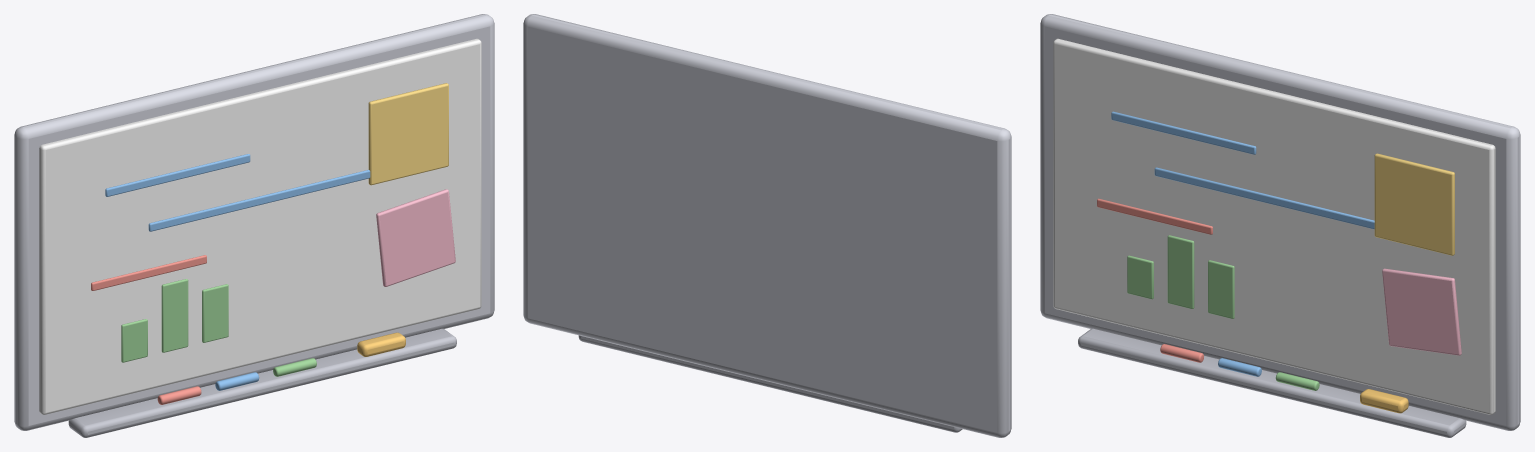
Rendered from whiteboard.glb.
3 renders of one model, left to right at view 1: azimuth 30°, elevation 25°; view 2: azimuth 150°, elevation 25°; view 3: azimuth 330°, elevation 25°, orthographic.
Parts seen in each view (by area): view 1: board, frame, tray, note_yellow, note_pink, c9fd49a, c8fc1f0, cf49a91, eraser; view 2: frame, tray; view 3: board, frame, tray, note_yellow, note_pink, c9fd49a, c8fc1f0, cf49a91, eraser.
Part boxes in pixels (bbox=[...]): board: bbox=[39, 38, 481, 414]; frame: bbox=[14, 14, 494, 430]; tray: bbox=[68, 328, 456, 437]; note_yellow: bbox=[368, 83, 448, 185]; note_pink: bbox=[376, 189, 455, 286]; c9fd49a: bbox=[121, 279, 316, 376]; c8fc1f0: bbox=[105, 154, 370, 390]; cf49a91: bbox=[91, 255, 206, 404]; eraser: bbox=[357, 332, 405, 356]; frame: bbox=[523, 14, 1011, 437]; tray: bbox=[578, 335, 962, 432]; board: bbox=[1053, 38, 1495, 414]; frame: bbox=[1040, 14, 1520, 430]; tray: bbox=[1078, 328, 1466, 437]; note_yellow: bbox=[1374, 153, 1454, 255]; note_pink: bbox=[1382, 268, 1461, 355]; c9fd49a: bbox=[1127, 235, 1319, 390]; c8fc1f0: bbox=[1111, 111, 1374, 376]; cf49a91: bbox=[1097, 198, 1212, 362]; eraser: bbox=[1360, 389, 1408, 413].
Bounding box in the file's own units: 3.3 × 2.06 × 0.26.
